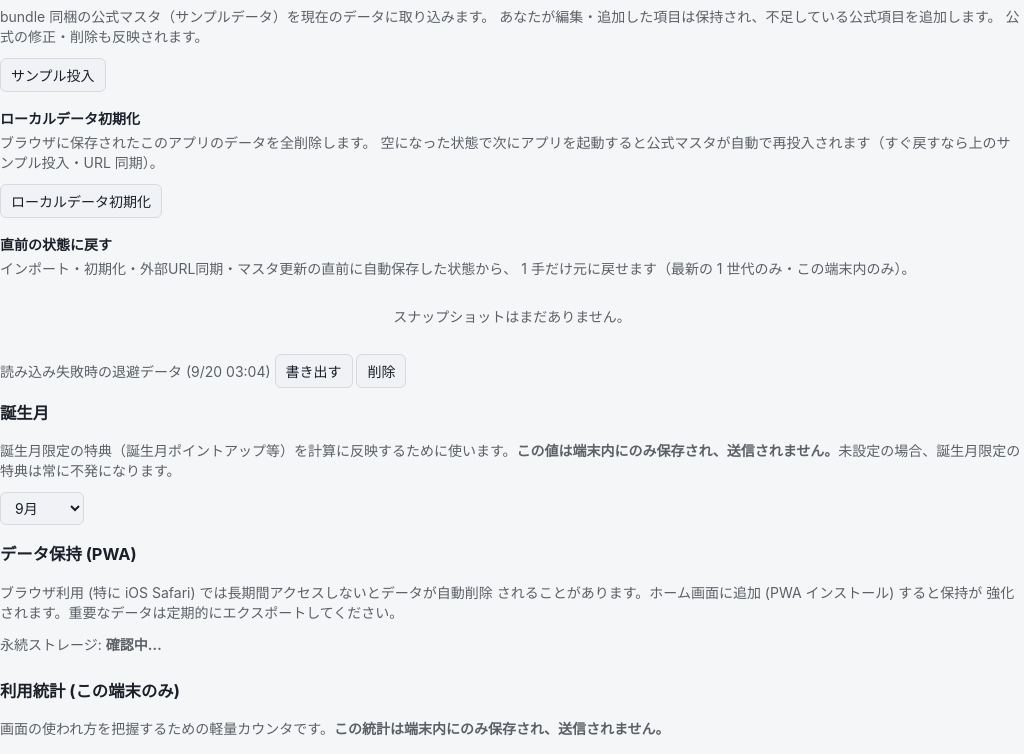
Scenario: SettingsScreen 読み込み失敗時の退避データ (PR-6d) › [削除] は確認ダイアログの後に消し、行も消える (キャンセルでは消さない)
(page scrolled)
Step 1. Click the button "削除" → (382, 371), box [356,354,406,388]
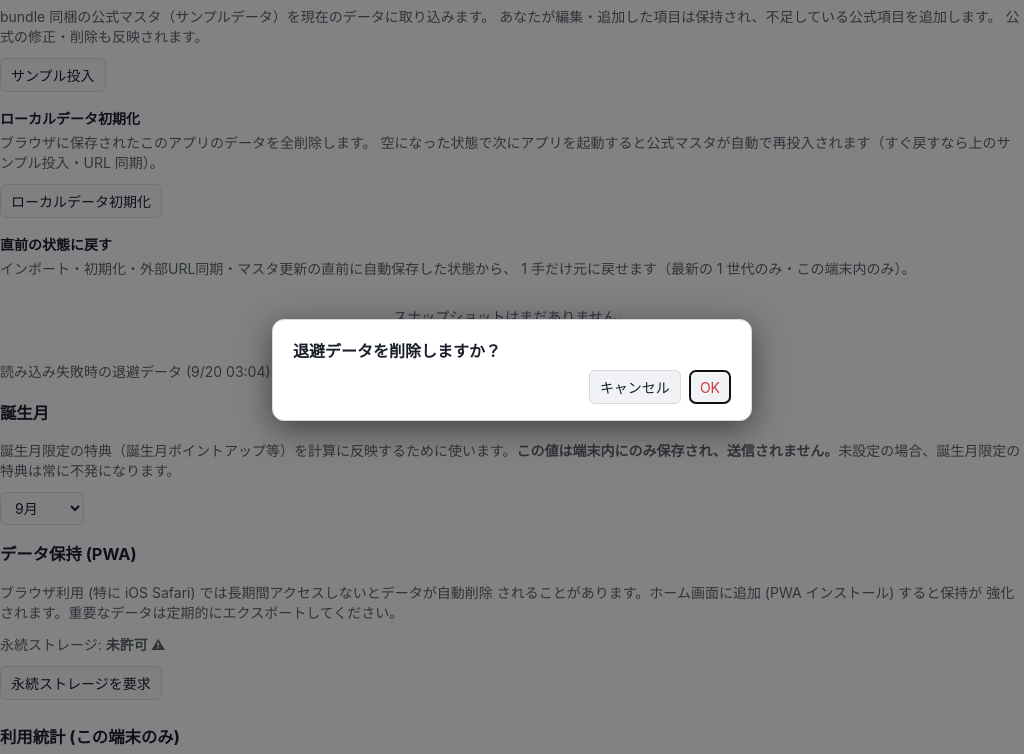
Step 2. Click the button "キャンセル" → (635, 387), box [589,370,681,404]
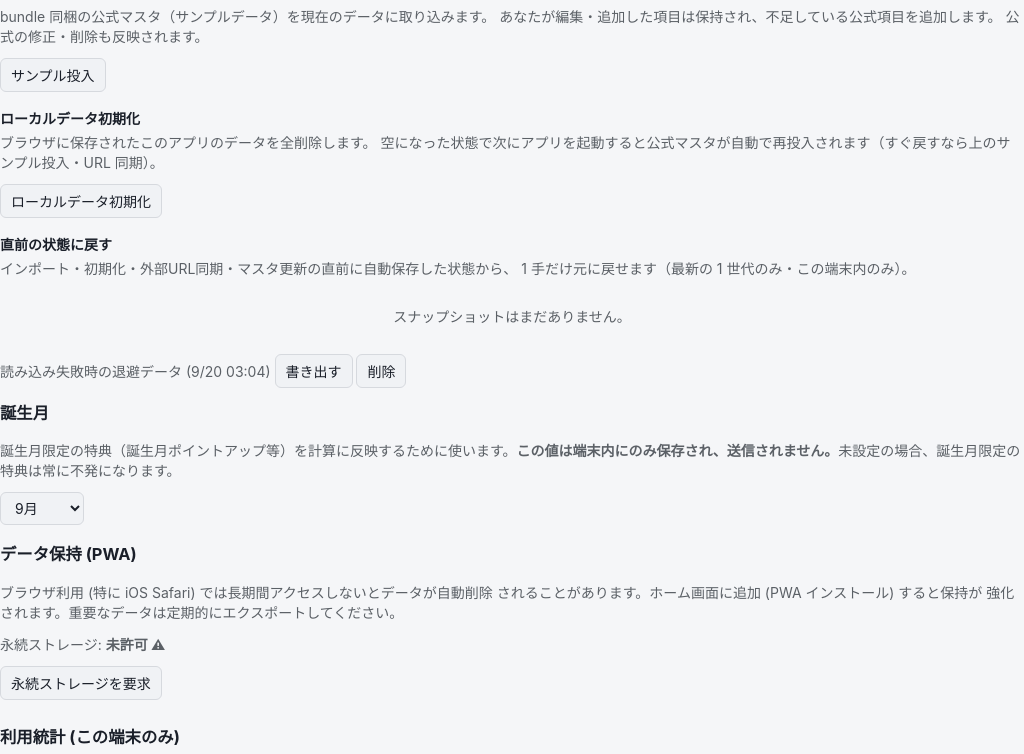
Result: the dialog is gone
Step 3. Click the button "削除" → (382, 371), box [356,354,406,388]
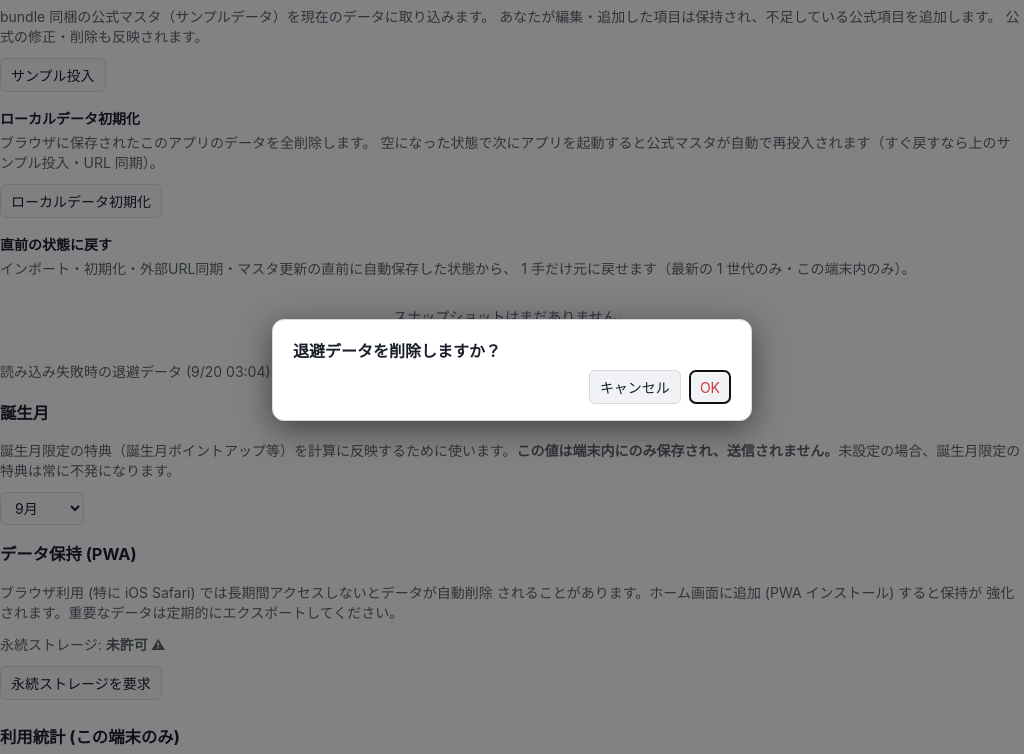
Step 4. Click the button "OK" → (710, 387), box [689,370,731,404]
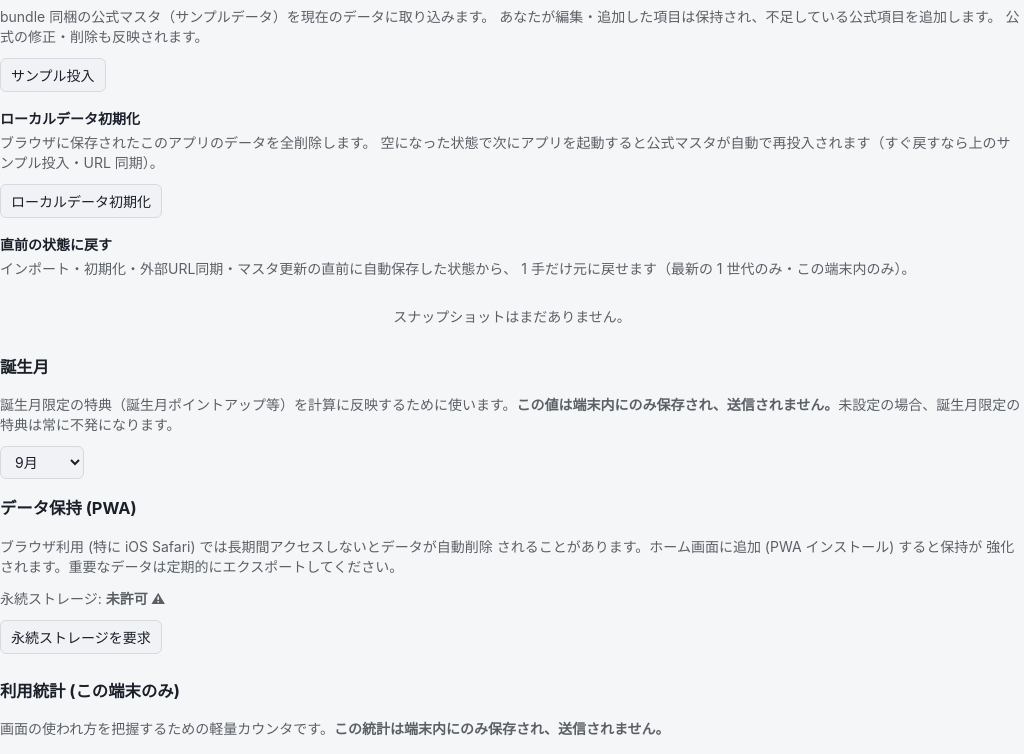
Result: the text "読み込み失敗時の退避データ" is gone
